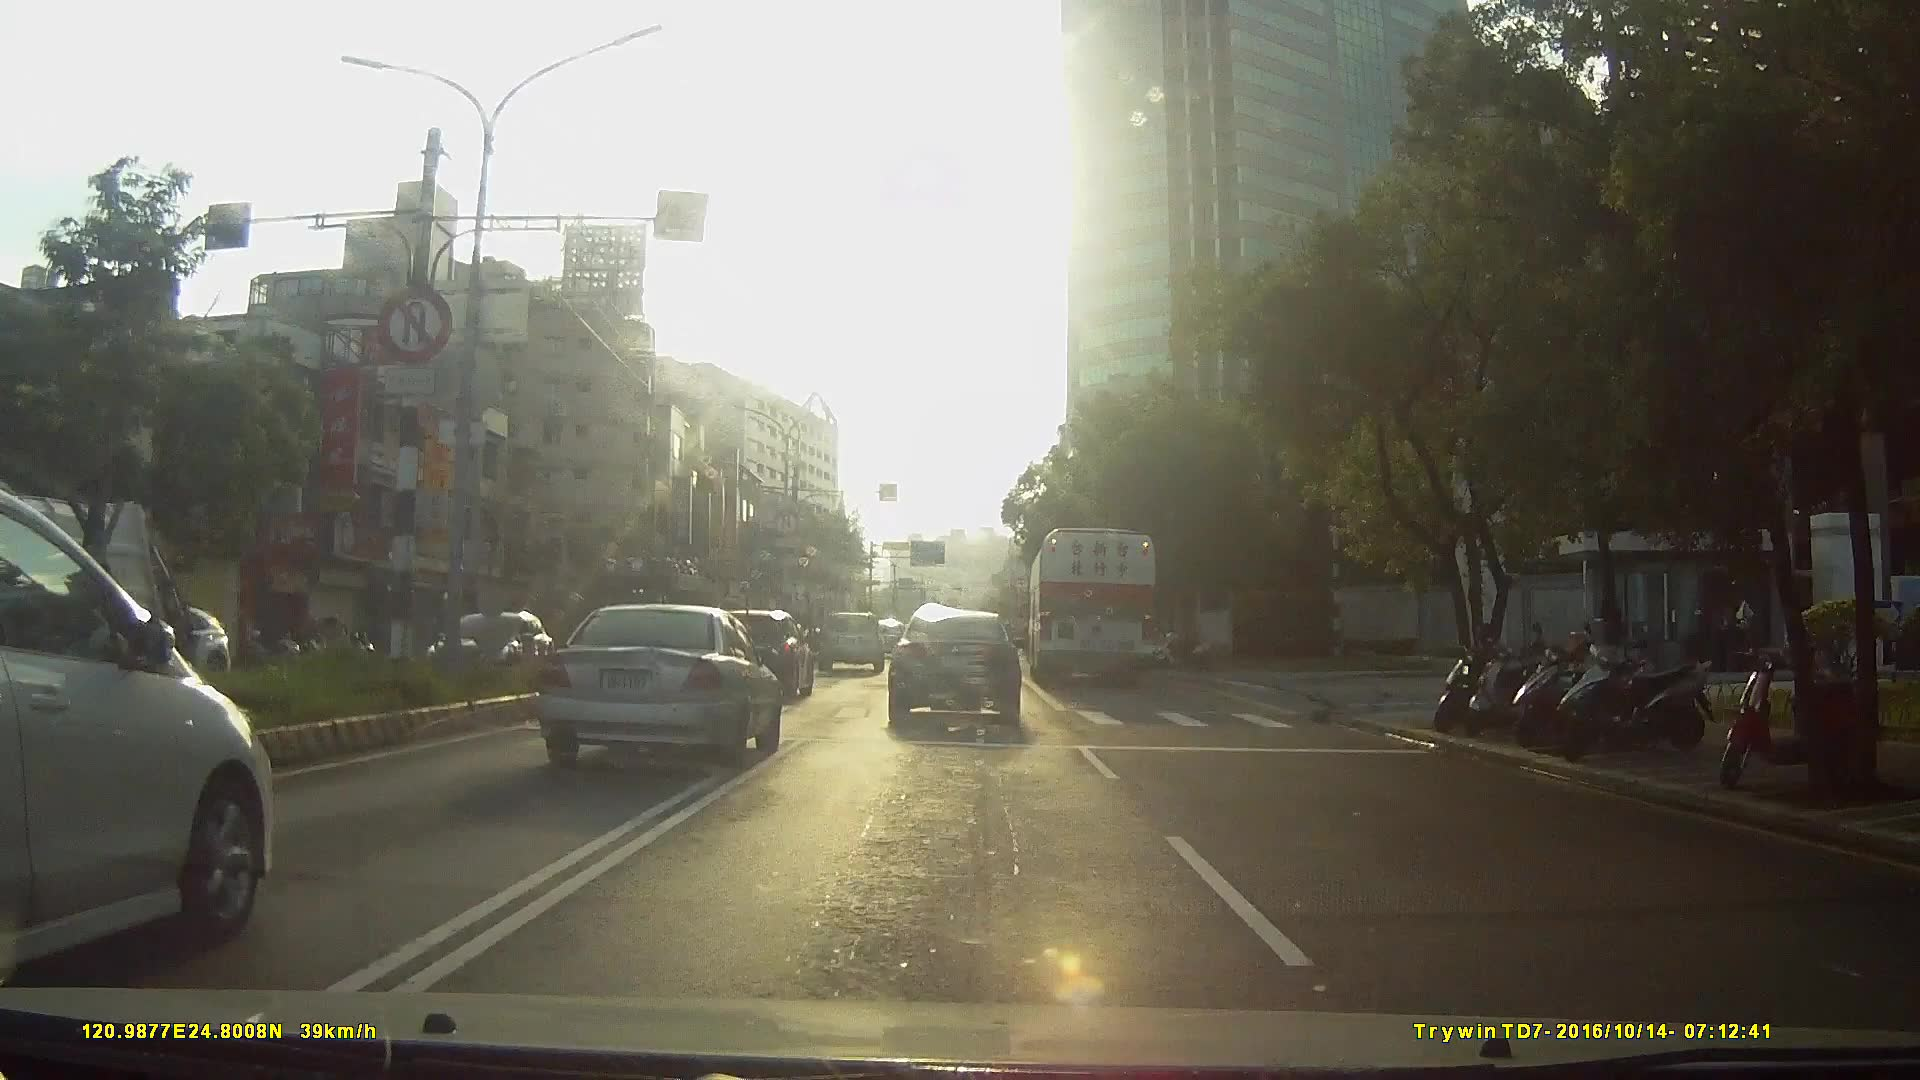vehicle: (1, 468, 301, 982), (251, 556, 684, 868), (525, 601, 779, 774), (1026, 522, 1162, 691), (887, 604, 1025, 713), (419, 608, 564, 684), (818, 608, 885, 675)
